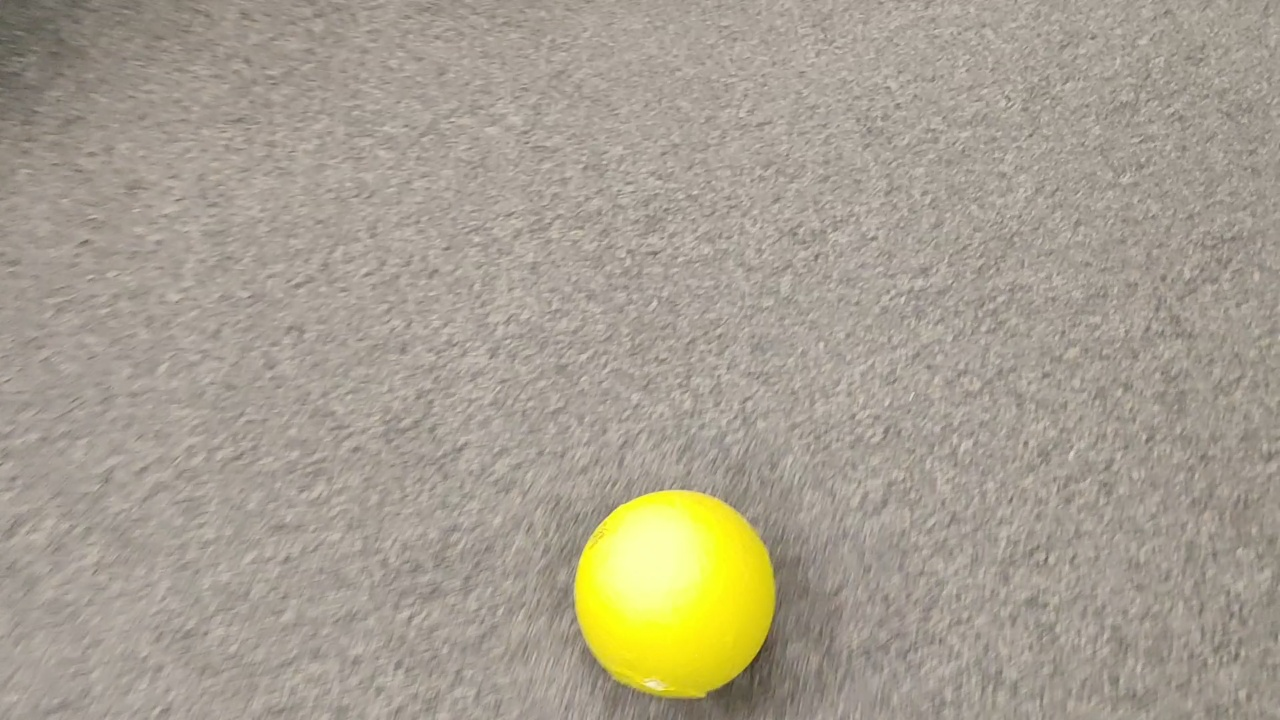Ball: (573, 488, 777, 702)
